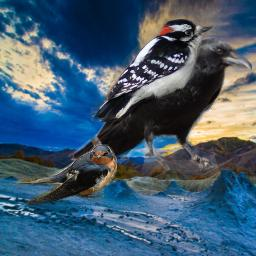Crow: (64, 36, 252, 177)
Swallow: (8, 144, 117, 205)
Woodpecker: (90, 19, 213, 122)
